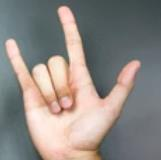back: (4, 3, 142, 149)
